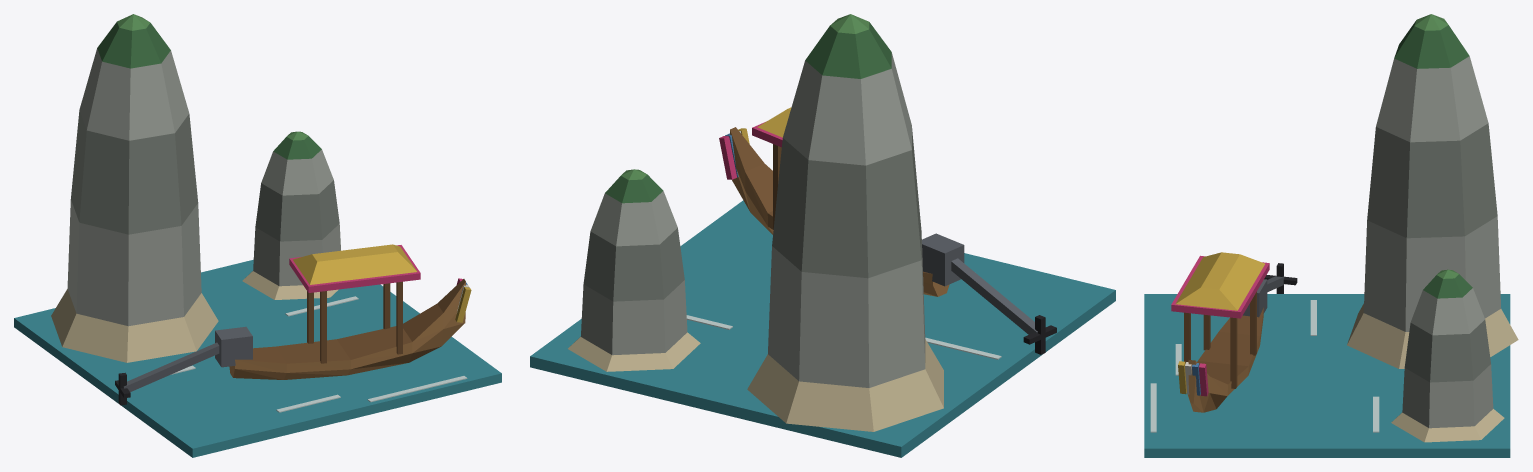
File: longTail.glb
3 views of the same model, side by side, from view 1: azimuth 30°, elevation 25°; view 2: azimuth 150°, elevation 25°; view 3: azimuth 270°, elevation 25° (orthographic). The views are drawn at different scales.
Visible parts, largest first — view 1: longTail; view 2: longTail; view 3: longTail.
Part boxes in pixels (bbox=[...]): longTail: bbox=[14, 14, 501, 457]; longTail: bbox=[530, 14, 1115, 457]; longTail: bbox=[1144, 14, 1518, 457].
Bounding box in the file's own units: 1.82 × 1.75 × 1.8.
